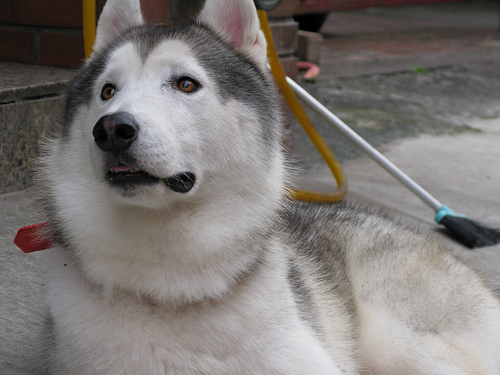dog: (6, 0, 499, 374)
